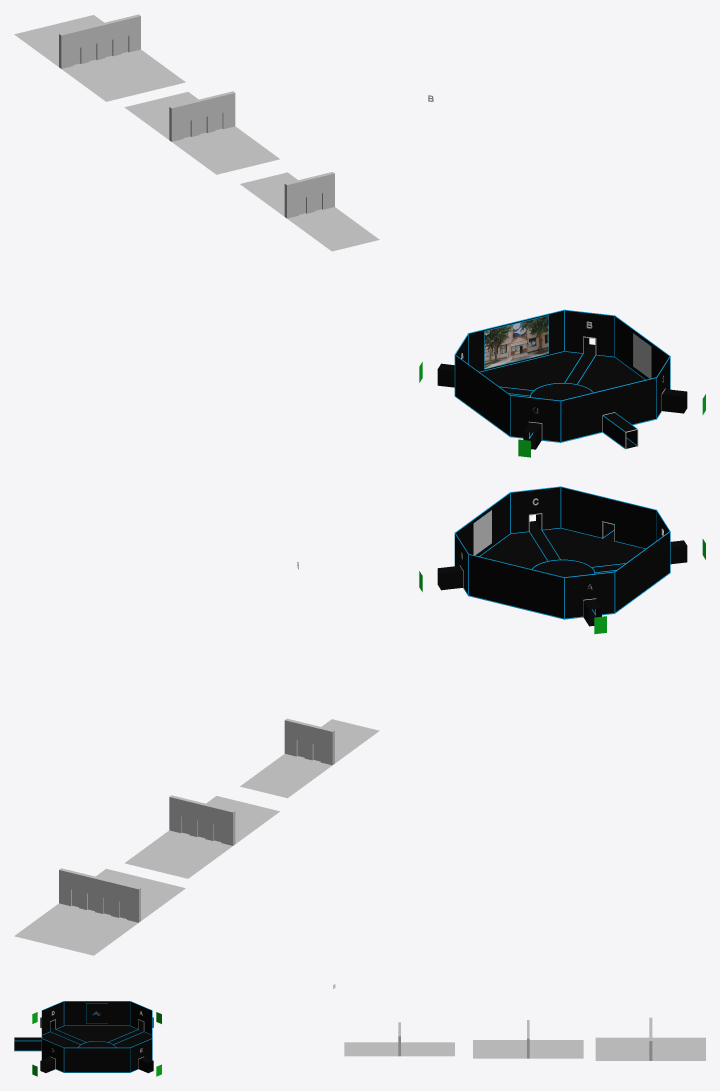
Rendered from NewPlatform.obj.
The picture shows the model from 3 angles, top to bottom: view 1: azimuth 30°, elevation 25°; view 2: azimuth 150°, elevation 25°; view 3: azimuth 270°, elevation 25°; orthographic projection. The views are drawn at different scales.
Visible parts, largest first — view 1: Plane.007, Plane.002, Plane.014, Plane.001, Plane, Cube.008, Plane.015, Plane.003, Plane.021, Cube.004, Plane.018, Cube.001 (+3 smaller); view 2: Plane.007, Plane.002, Plane.001, Plane.006, Plane.014, Plane, Cube.008, Plane.003, Plane.011, Cube.004, Plane.027, Cube.001 (+3 smaller); view 3: Plane.002, Plane.001, Plane.007, Plane.004, Plane, Plane.003, Plane.018, Plane.027, Plane.021, Plane.011, Plane.023, Plane.014 (+1 smaller).
Boxes of the visible parts, box(x1,y1,x2,y2) form: Plane.007: box(480, 351, 644, 439); Plane.002: box(14, 15, 185, 101); Plane.014: box(561, 378, 656, 448); Plane.001: box(124, 92, 279, 174); Plane: box(240, 172, 379, 251); Cube.008: box(59, 14, 140, 68); Plane.015: box(484, 315, 548, 369); Plane.003: box(455, 356, 509, 435); Plane.021: box(510, 396, 560, 449); Cube.004: box(169, 91, 235, 141); Plane.018: box(565, 310, 614, 356); Cube.001: box(284, 172, 334, 218); Plane.007: box(480, 528, 644, 616); Plane.002: box(14, 868, 185, 955); Plane.001: box(125, 796, 279, 878); Plane.006: box(469, 555, 563, 618); Plane.014: box(561, 487, 656, 548); Plane: box(240, 719, 379, 798); Cube.008: box(59, 868, 140, 922); Plane.003: box(615, 532, 669, 612); Plane.011: box(565, 572, 614, 626); Cube.004: box(169, 795, 235, 845); Plane.027: box(511, 487, 560, 533); Cube.001: box(284, 718, 334, 765); Plane.002: box(595, 1037, 705, 1060); Plane.001: box(473, 1040, 583, 1058); Plane.007: box(42, 1026, 151, 1047); Plane.004: box(64, 1048, 129, 1072); Plane: box(344, 1042, 454, 1056); Plane.003: box(64, 1001, 129, 1025); Plane.018: box(130, 1039, 153, 1073); Plane.027: box(40, 1039, 63, 1072); Plane.021: box(40, 1002, 63, 1034); Plane.011: box(130, 1001, 153, 1034); Plane.023: box(86, 1003, 107, 1023); Plane.014: box(14, 1037, 41, 1050).
Bounding box in the file's own units: 23.5 × 16.83 × 125.
